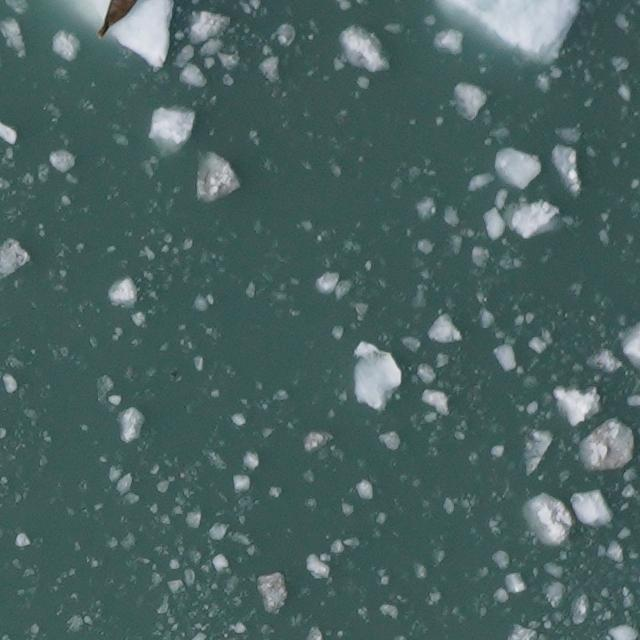seal: (94, 0, 144, 41)
